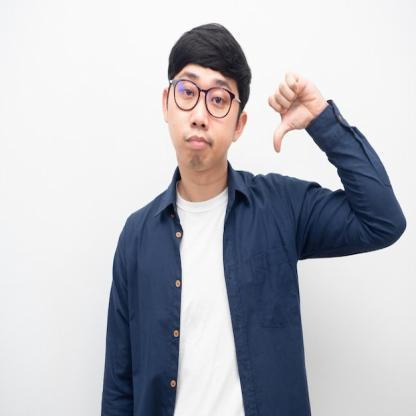thumb_down: (265, 67, 321, 156)
